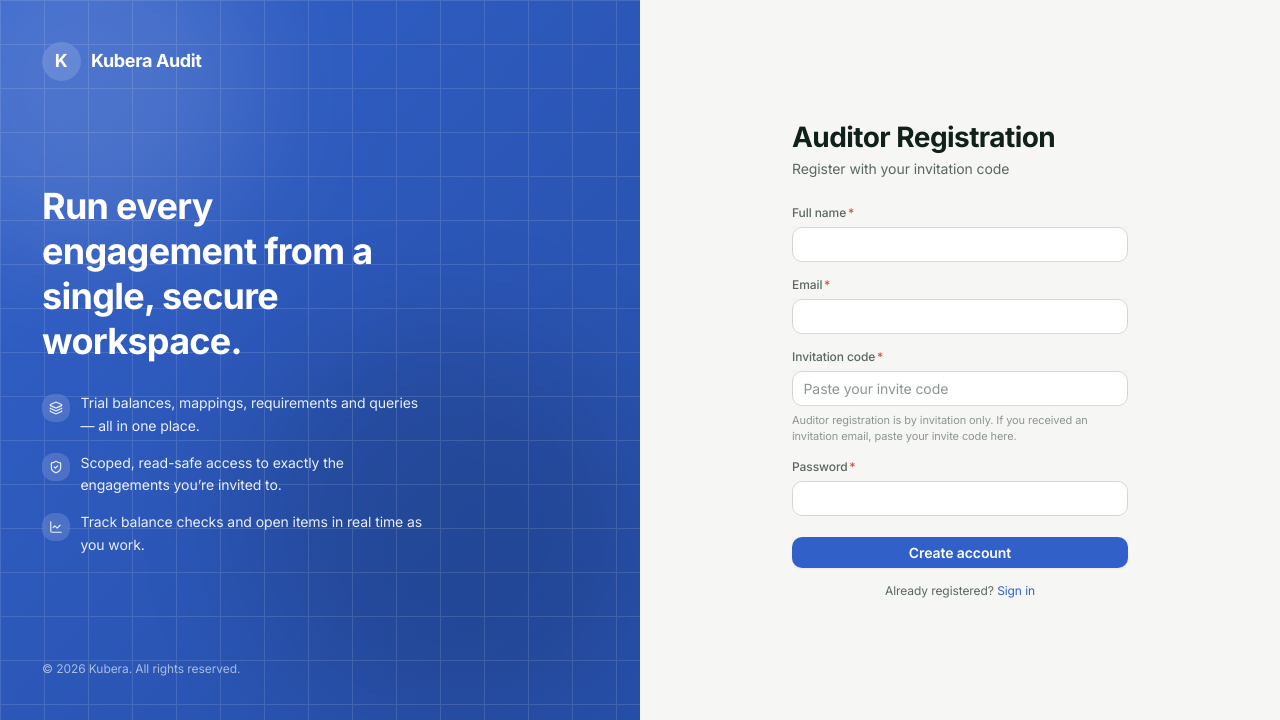
Test: AuditorRegister Rate Limit › displays the parsed Retry-After header as minutes on 429 response
In the field labelled "Full name*": (960, 244) [792,227,1128,262], type "Auditor"
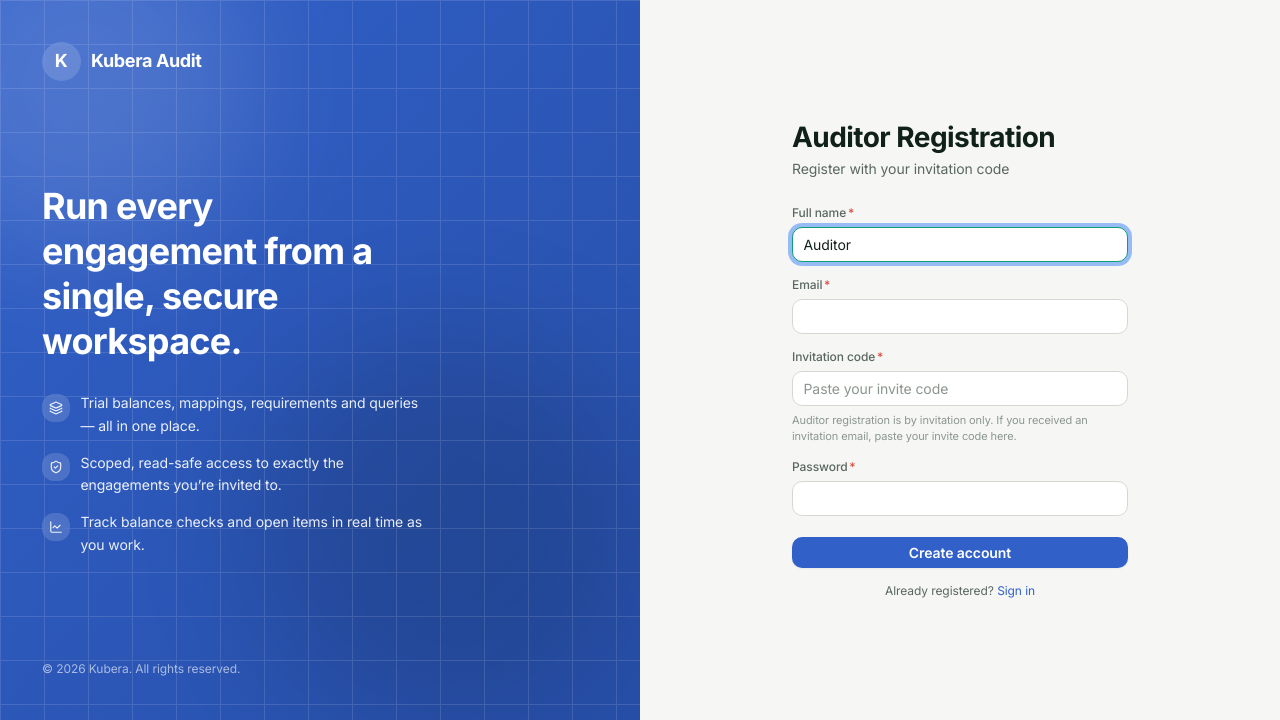
In the field labelled "Email*": (960, 316) [792,299,1128,334], type "auditor@test.test"
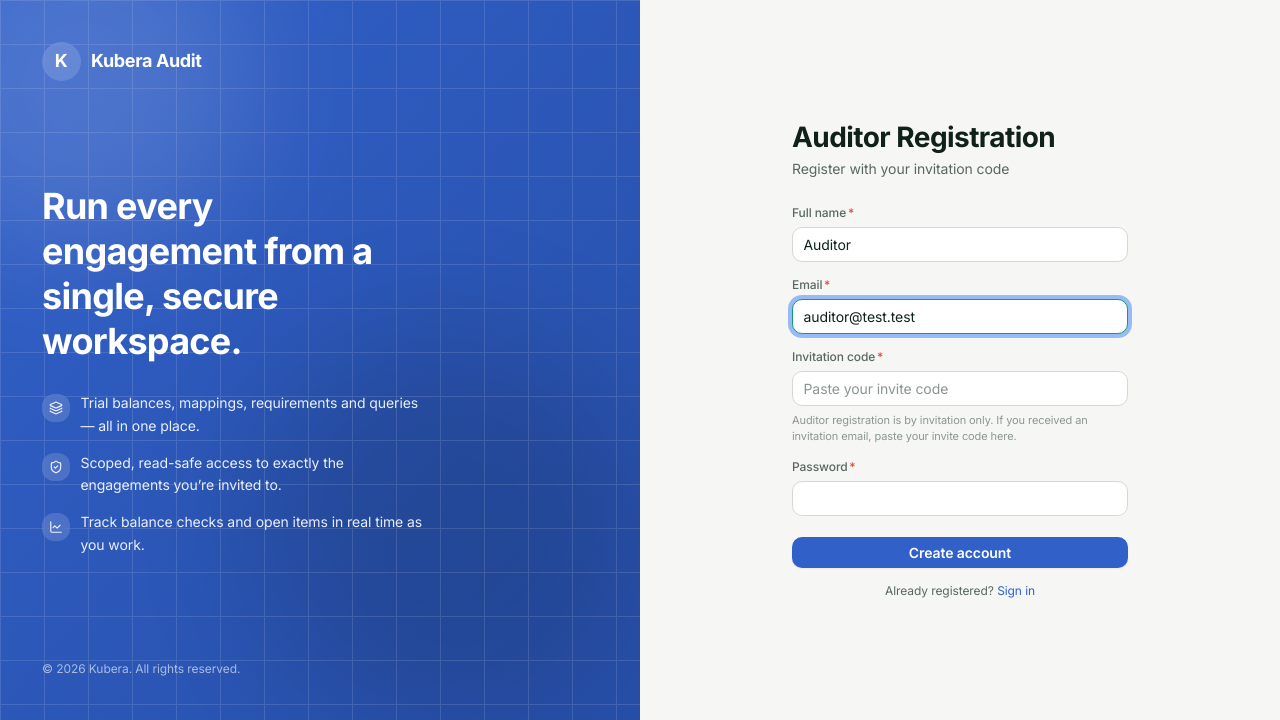
In the field labelled "Invitation code*": (960, 389) [792,371,1128,406], type "token123"
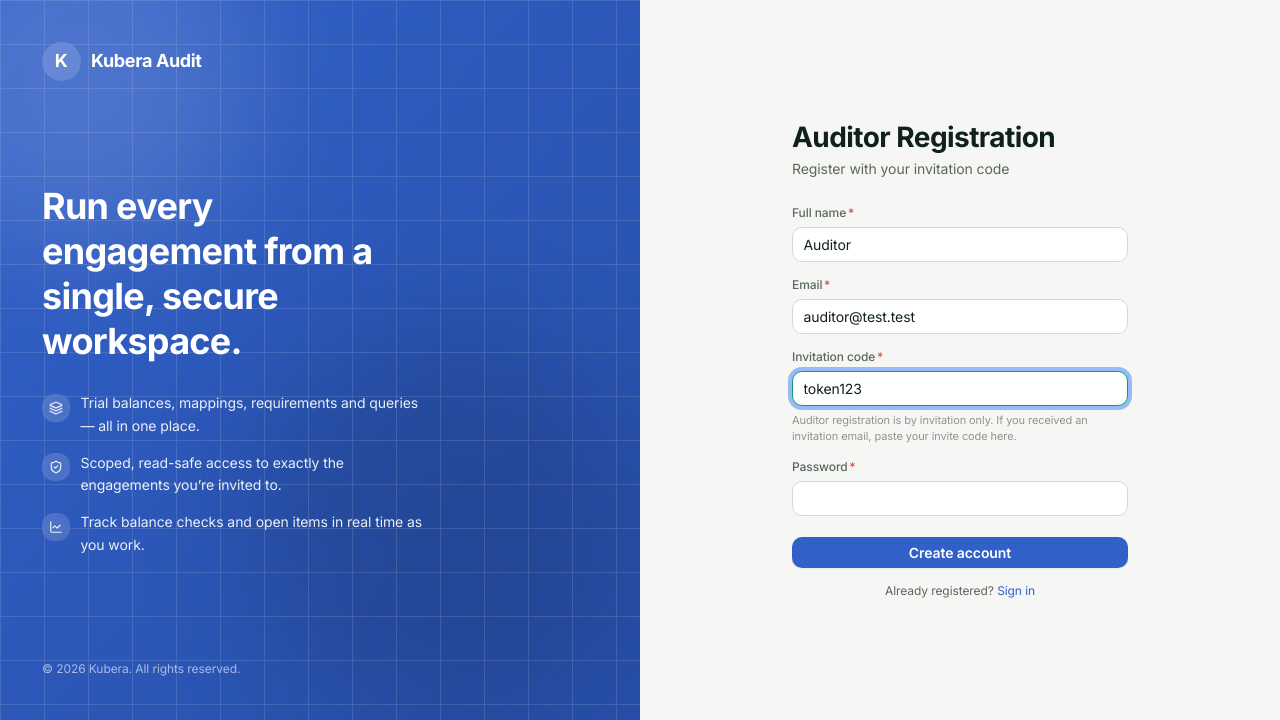
In the password field labelled "Password*": (960, 498) [792,481,1128,516], type "Valid1!Pass"
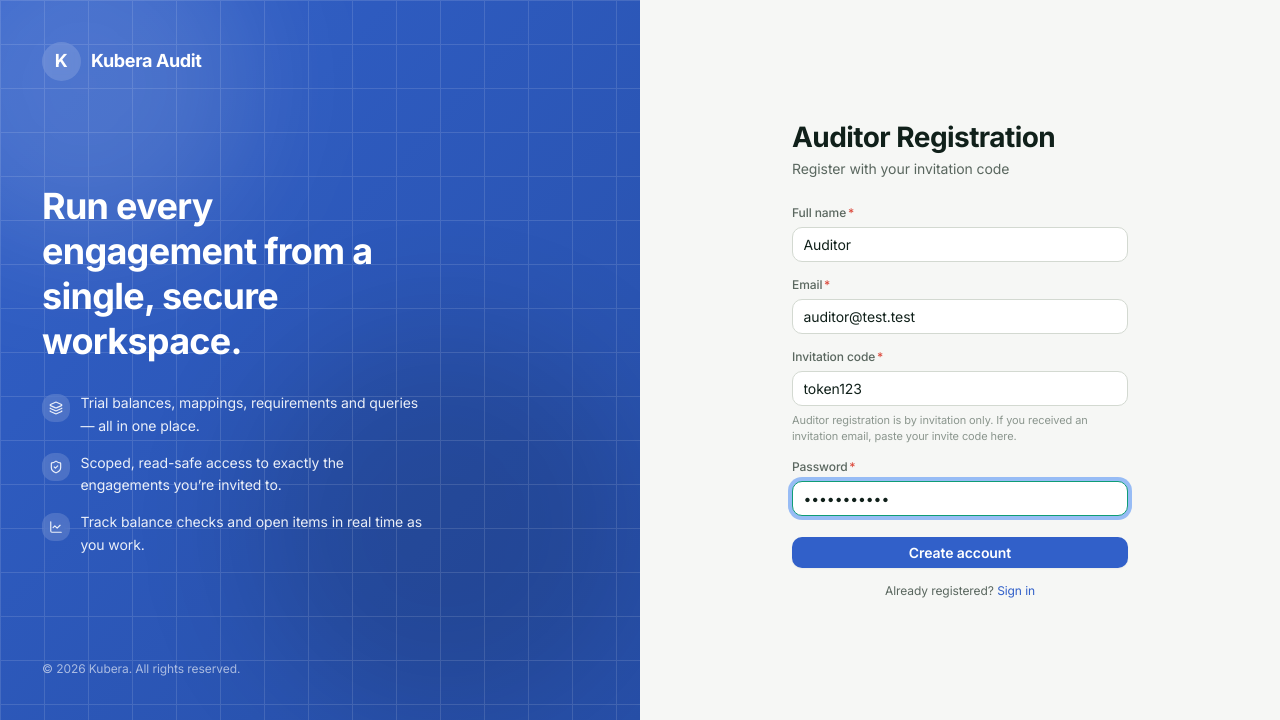
Click the button "Create account": (960, 553) [792,537,1128,568]
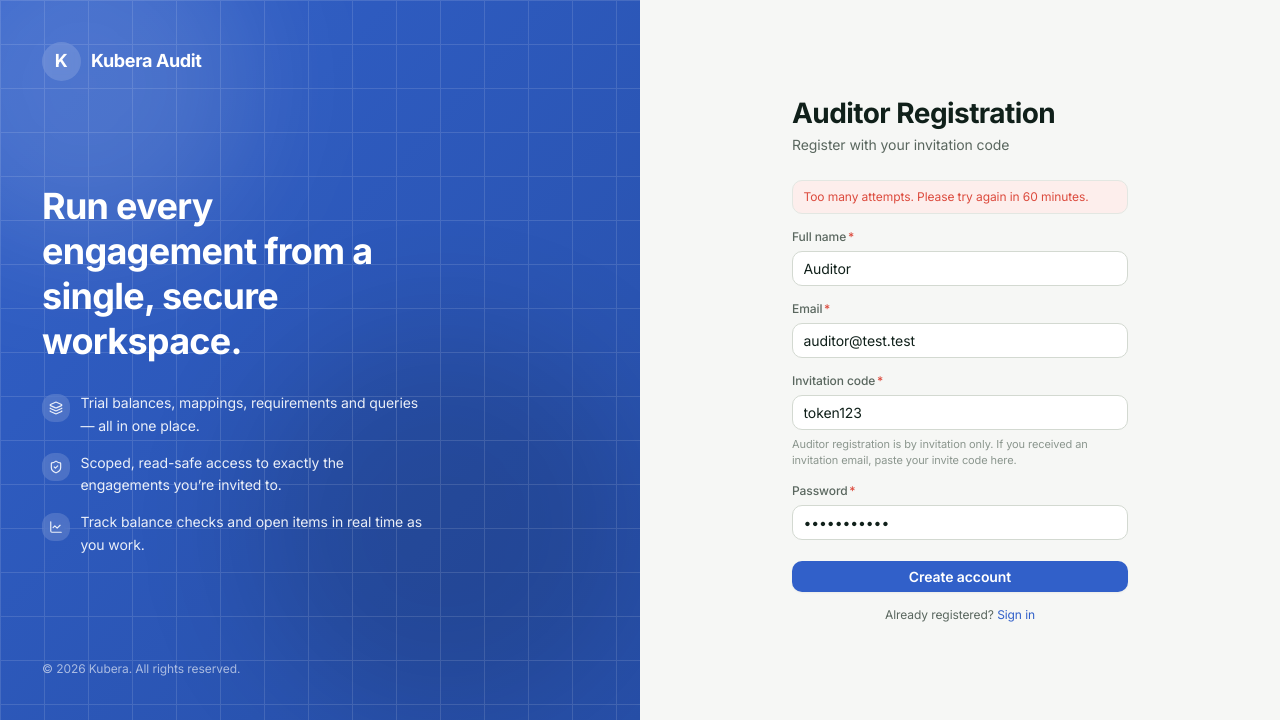
Now the button "Too many attempts. Please try again in 60 minutes." is shown, box [792,180,1128,214]
